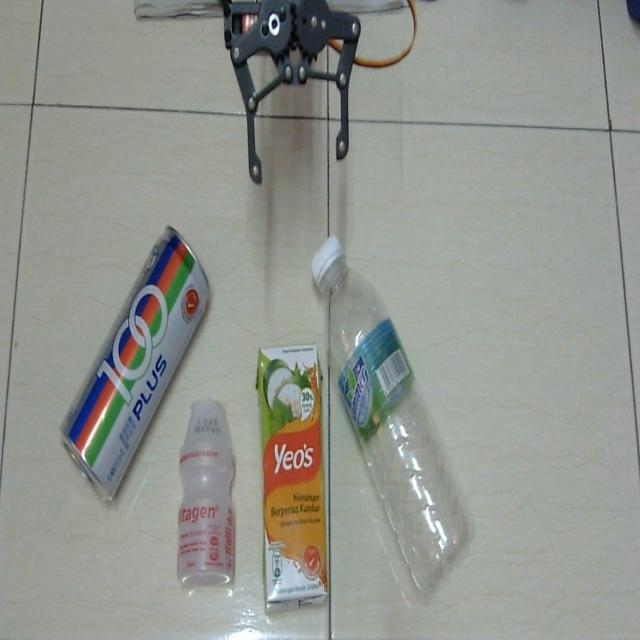Metal-laydown_45right-rotation: (58, 222, 210, 509)
Plastic-laydown_45left-rotation: (308, 231, 482, 599)
Plastic-laydown_90-rotation: (253, 338, 330, 607), (172, 394, 242, 595)
